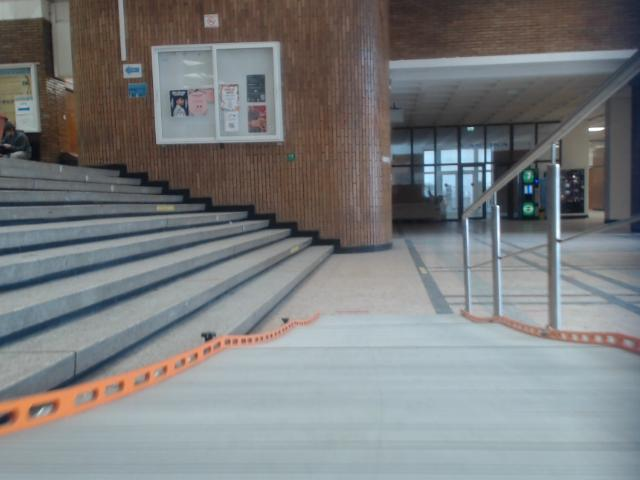rampDown: (0, 314, 639, 479)
ramps-railing: (463, 80, 612, 312), (470, 216, 547, 315), (558, 214, 639, 242), (548, 163, 559, 329)
